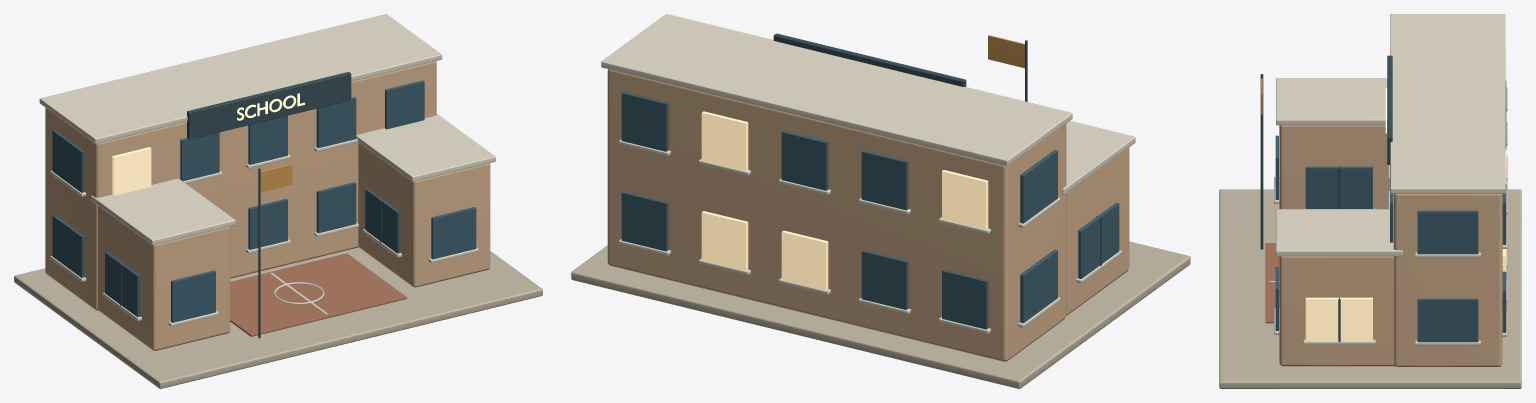
Rendered from school.glb.
The picture shows the model from 3 angles, left to right: view 1: azimuth 30°, elevation 25°; view 2: azimuth 150°, elevation 25°; view 3: azimuth 270°, elevation 25°; orthographic projection. The views are drawn at different scales.
Parts seen in each view (by area): view 1: school_Building_Volume, school_Roof_Coping, school_Site_Paving, school_Building_Volume.002, school_Building_Volume.001, school_School_Play_Court, school_Roof_Coping.001, school_Roof_Coping.002, school_Sign_Backplate, school_Window_Recess.029, school_Window_Recess.025, school_Window_Recess.007 (+13 smaller); view 2: school_Building_Volume, school_Roof_Coping, school_Site_Paving, school_Building_Volume.001, school_Roof_Coping.001, school_Window_Recess.004, school_Window_Recess.014, school_Window_Recess.016, school_Window_Recess.018, school_Window_Recess.002, school_Window_Recess.006, school_Window_Recess.020 (+8 smaller); view 3: school_Roof_Coping, school_Site_Paving, school_Building_Volume, school_Building_Volume.002, school_Building_Volume.001, school_Roof_Coping.002, school_Roof_Coping.001, school_Window_Recess.031, school_Window_Recess.027, school_Window_Recess.011, school_Window_Recess.023, school_School_Play_Court (+7 smaller).
Boxes of the visible parts, x1,y1,x2,y2 form: school_Building_Volume: (45, 61, 436, 310); school_Roof_Coping: (39, 14, 442, 143); school_Site_Paving: (14, 247, 542, 388); school_Building_Volume.002: (358, 142, 490, 287); school_Building_Volume.001: (98, 206, 230, 350); school_School_Play_Court: (230, 253, 406, 336); school_Roof_Coping.001: (91, 178, 235, 245); school_Roof_Coping.002: (356, 114, 495, 181); school_Sign_Backplate: (187, 72, 351, 139); school_Window_Recess.029: (431, 207, 476, 259); school_Window_Recess.025: (171, 270, 215, 322); school_Window_Recess.007: (316, 182, 356, 233); school_Building_Volume: (607, 69, 1066, 361); school_Roof_Coping: (601, 14, 1072, 166); school_Site_Paving: (571, 241, 1190, 388); school_Building_Volume.001: (1066, 147, 1129, 315); school_Roof_Coping.001: (1062, 121, 1135, 194); school_Window_Recess.004: (781, 230, 828, 290); school_Window_Recess.014: (861, 150, 908, 210); school_Window_Recess.016: (781, 131, 828, 190); school_Window_Recess.018: (701, 111, 748, 171); school_Window_Recess.002: (861, 250, 908, 309); school_Window_Recess.006: (701, 211, 748, 270); school_Window_Recess.020: (621, 92, 668, 151); school_Roof_Coping: (1390, 14, 1505, 193); school_Site_Paving: (1219, 189, 1521, 388); school_Building_Volume: (1393, 194, 1502, 366); school_Building_Volume.002: (1279, 256, 1394, 366); school_Building_Volume.001: (1279, 125, 1389, 208); school_Roof_Coping.002: (1276, 209, 1402, 256); school_Roof_Coping.001: (1276, 78, 1387, 125); school_Window_Recess.031: (1305, 297, 1372, 341); school_Window_Recess.027: (1305, 166, 1372, 208); school_Window_Recess.011: (1417, 298, 1478, 342); school_Window_Recess.023: (1417, 210, 1478, 254); school_School_Play_Court: (1265, 243, 1279, 323).
Bounding box in the file's own units: 11.8 × 5.6 × 7.8.
